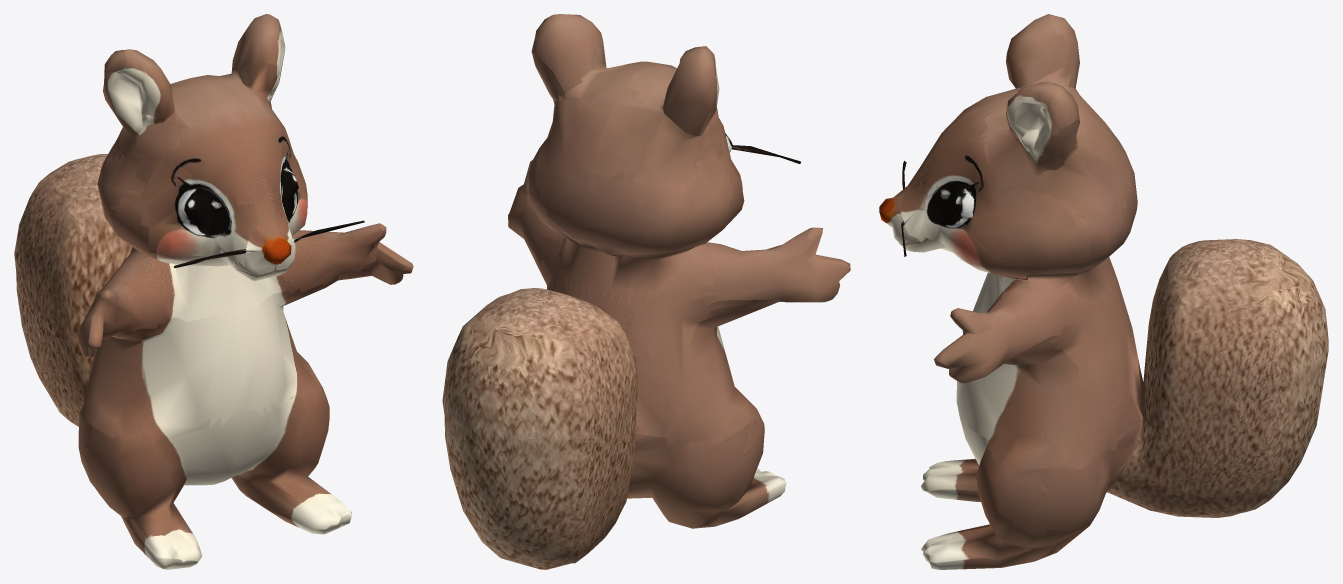
File: squirrel_meshy_legacy.glb
The picture shows the model from 3 angles, left to right: view 1: azimuth 30°, elevation 25°; view 2: azimuth 150°, elevation 25°; view 3: azimuth 270°, elevation 25°; orthographic projection. The views are drawn at different scales.
Size of the model in its own units: 1.35 by 1.91 by 1.61.
1 material, 1 textured.
